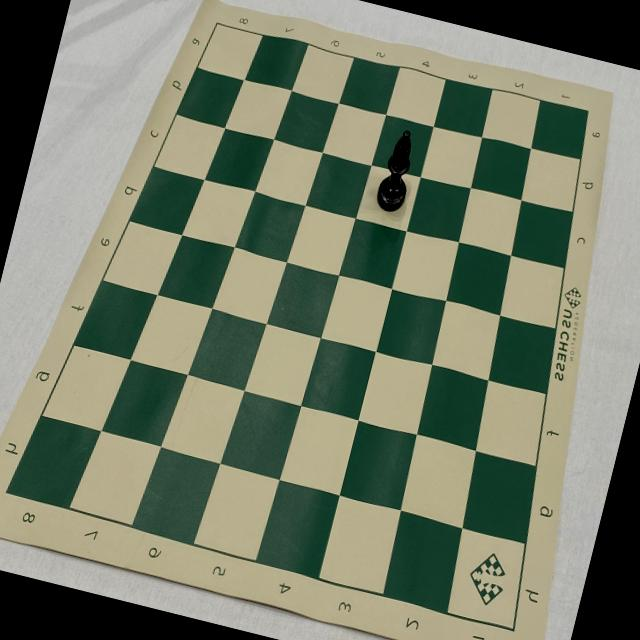black-bishop: (372, 124, 422, 216)
